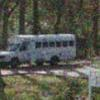buses: (0, 34, 77, 67)
